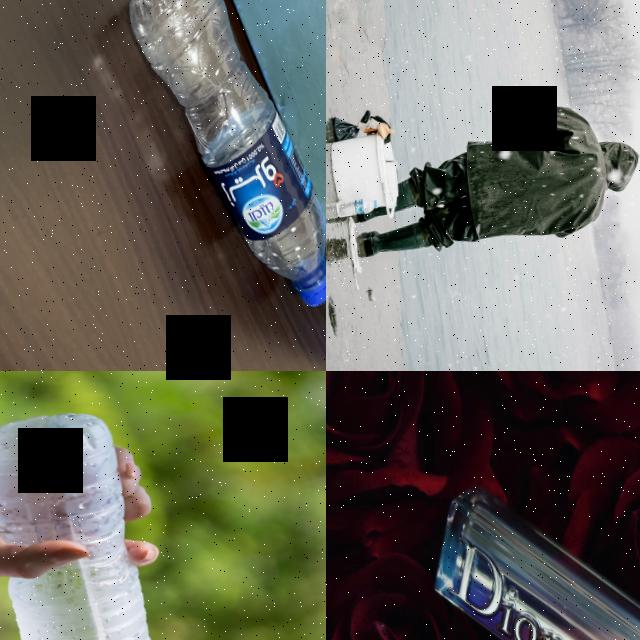bottle: (114, 0, 326, 352), (0, 409, 161, 640), (331, 193, 378, 221)
